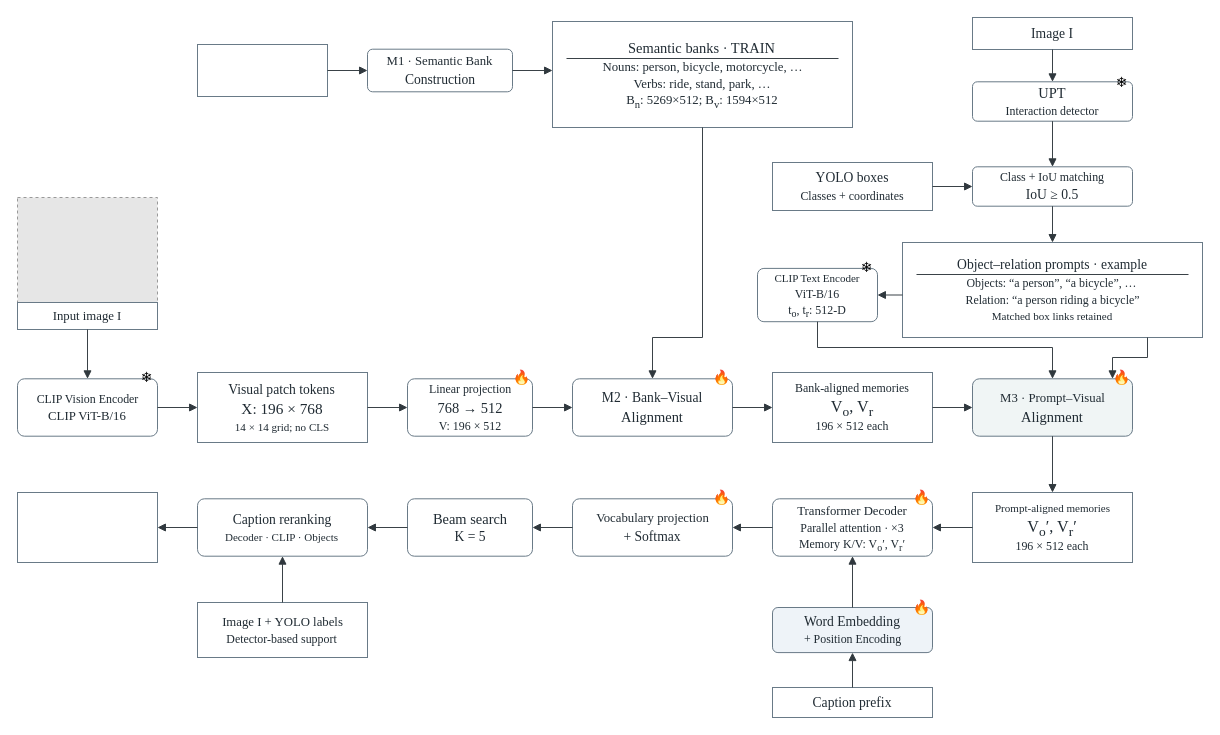
Some shapes in this 1220 by 735 pixel diagram are drawn without their labels. Grey dashed boxes stand in for pictures. Here are the shapes that lost their labels. From the top down, the centre of each, then its label:
At [262,70]: "TRAIN captions".
At [87,527]: "Generated caption".
